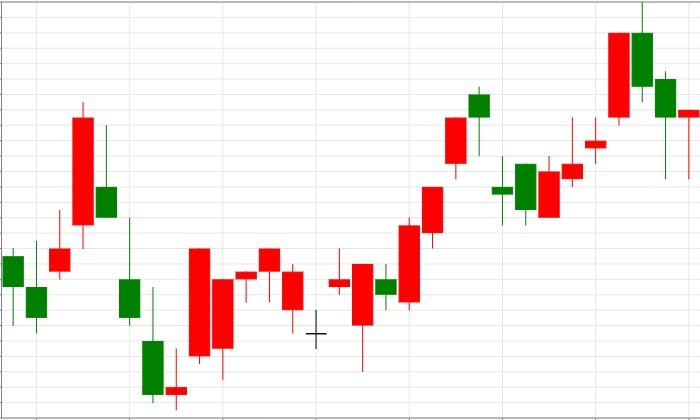hanging_man_fall: (398, 86, 490, 310)
